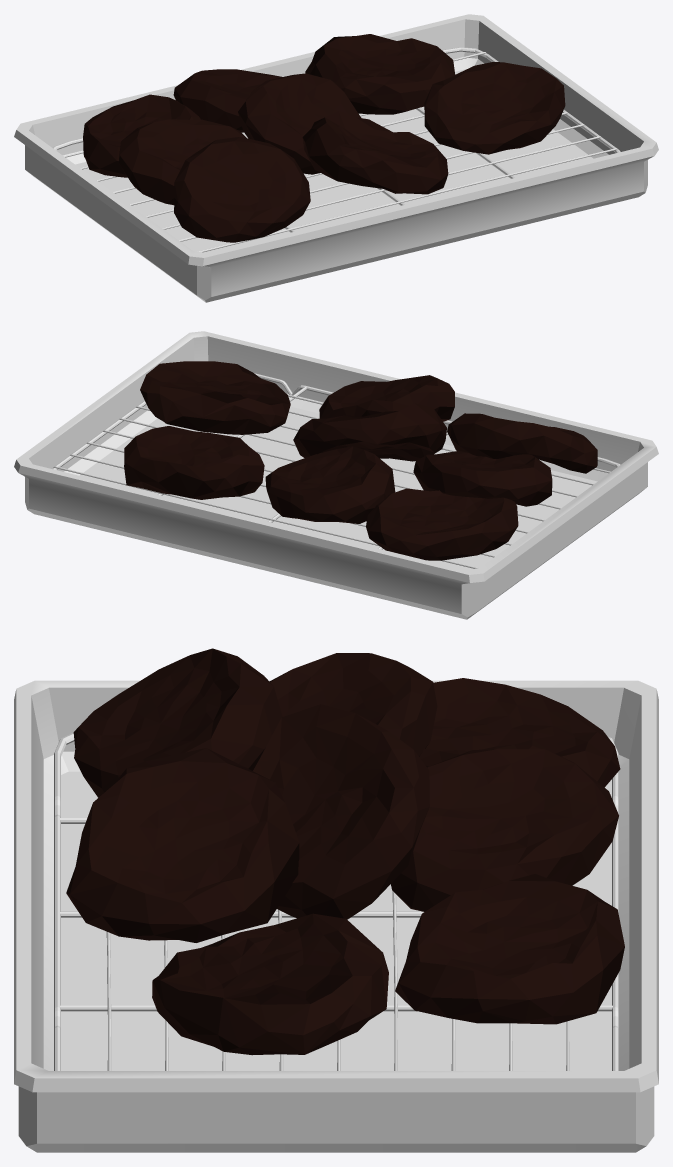
File: patty_tray 1.fbx
3 views of the same model, one above another, from view 1: azimuth 30°, elevation 25°; view 2: azimuth 150°, elevation 25°; view 3: azimuth 270°, elevation 25° (orthographic). The views are drawn at different scales.
Visible parts, largest first — view 1: Box005, Cylinder003, Cylinder008, Cylinder006, Cylinder007, Cylinder005, Cylinder002, Cylinder001, Rectangle001, Cylinder004; view 2: Box005, Cylinder008, Cylinder001, Cylinder007, Cylinder004, Cylinder005, Cylinder002, Cylinder003, Cylinder006, Rectangle001; view 3: Box005, Cylinder006, Cylinder007, Cylinder005, Cylinder008, Cylinder004, Cylinder003, Cylinder001, Cylinder002, Rectangle001.
Boxes of the visible parts, left/top/right/bottom form: Box005: left=14, top=14, right=658, bottom=302; Cylinder003: left=174, top=137, right=310, bottom=242; Cylinder008: left=424, top=62, right=565, bottom=154; Cylinder006: left=302, top=111, right=448, bottom=194; Cylinder007: left=305, top=34, right=455, bottom=114; Cylinder005: left=238, top=73, right=361, bottom=174; Cylinder002: left=119, top=119, right=246, bottom=205; Cylinder001: left=83, top=94, right=200, bottom=177; Rectangle001: left=52, top=47, right=620, bottom=252; Cylinder004: left=173, top=69, right=281, bottom=132; Box005: left=14, top=331, right=658, bottom=619; Cylinder008: left=140, top=361, right=290, bottom=434; Cylinder001: left=366, top=488, right=518, bottom=560; Cylinder007: left=124, top=426, right=264, bottom=499; Cylinder004: left=265, top=446, right=395, bottom=523; Cylinder005: left=293, top=403, right=446, bottom=461; Cylinder002: left=413, top=451, right=552, bottom=506; Cylinder003: left=447, top=413, right=597, bottom=473; Cylinder006: left=319, top=375, right=454, bottom=421; Rectangle001: left=52, top=373, right=620, bottom=568; Box005: left=14, top=680, right=658, bottom=1152; Cylinder006: left=66, top=748, right=299, bottom=942; Cylinder007: left=395, top=874, right=624, bottom=1024; Cylinder005: left=248, top=704, right=429, bottom=919; Cylinder008: left=152, top=913, right=388, bottom=1055; Cylinder004: left=391, top=749, right=618, bottom=911; Cylinder003: left=73, top=648, right=282, bottom=797; Cylinder001: left=419, top=678, right=620, bottom=787; Cylinder002: left=269, top=653, right=437, bottom=756; Rectangle001: left=54, top=732, right=618, bottom=1070.
Bounding box in the file's own units: 0.5218 × 0.1225 × 0.3552.
